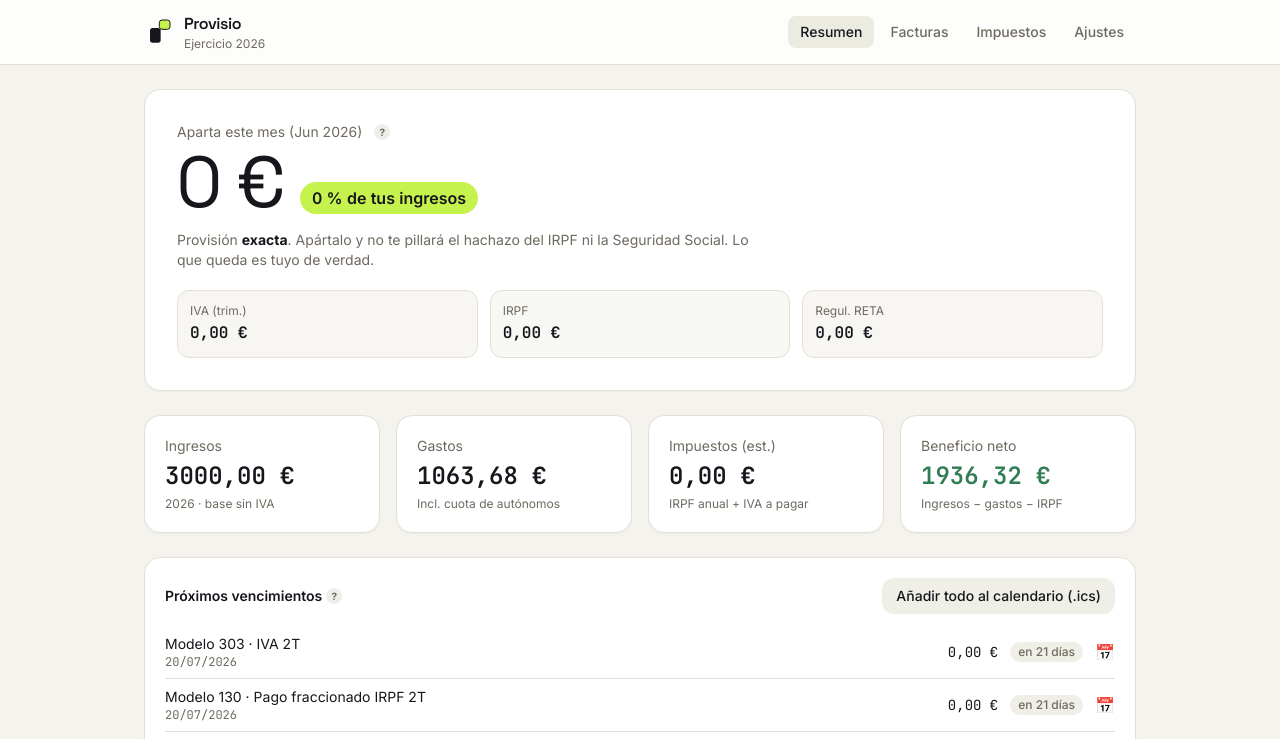
App smoke test (mounts without crashing) › navigates the simplified 4-hub nav
This screenshot has width=1280, height=739.
Expected: the text "Aparta este mes (Jun 2026) ?" is shown, [177,123,390,140]
# Facturas hub: Ingresos/Gastos segmented + create-invoice action.
Click the button "Facturas" at [920, 32], box [878,16,960,48]
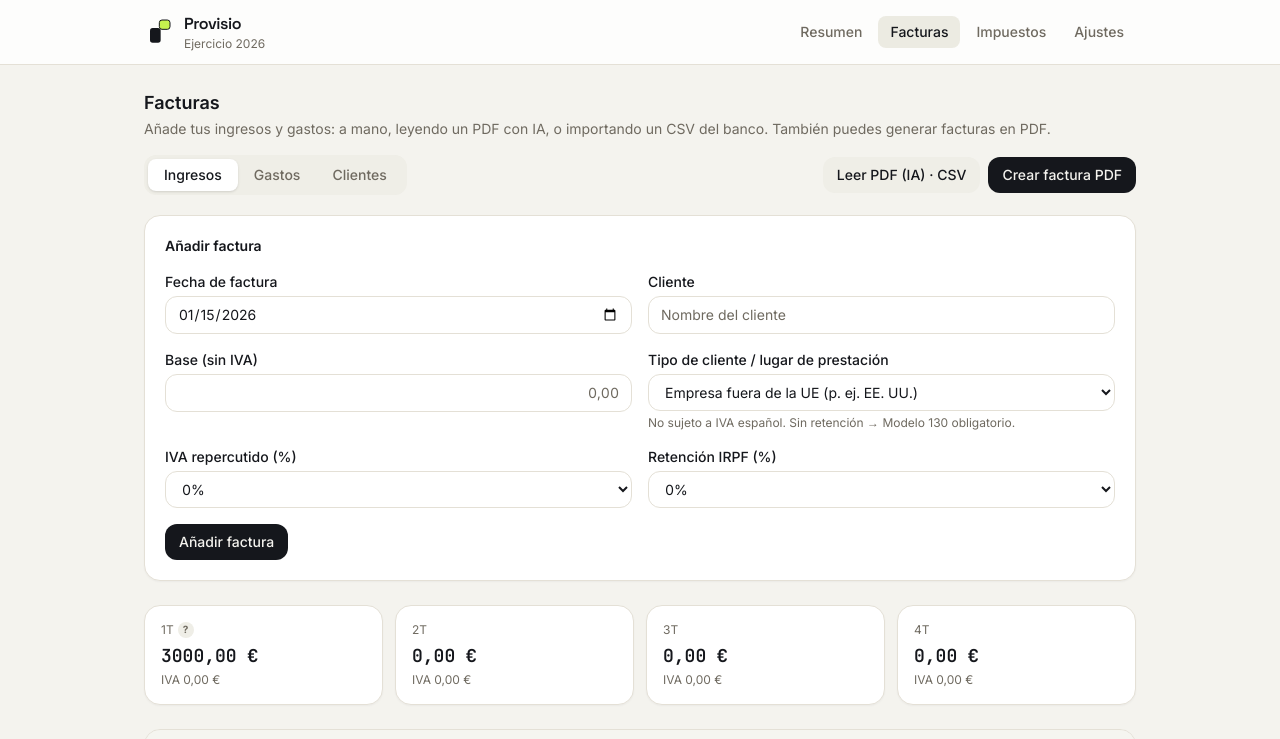
Result: the button "Crear factura PDF" is shown at [988,157,1136,193]
# Ajustes hub: año y perfil + datos.
Click the button "Ajustes" at [1099, 32], box [1062,16,1136,48]
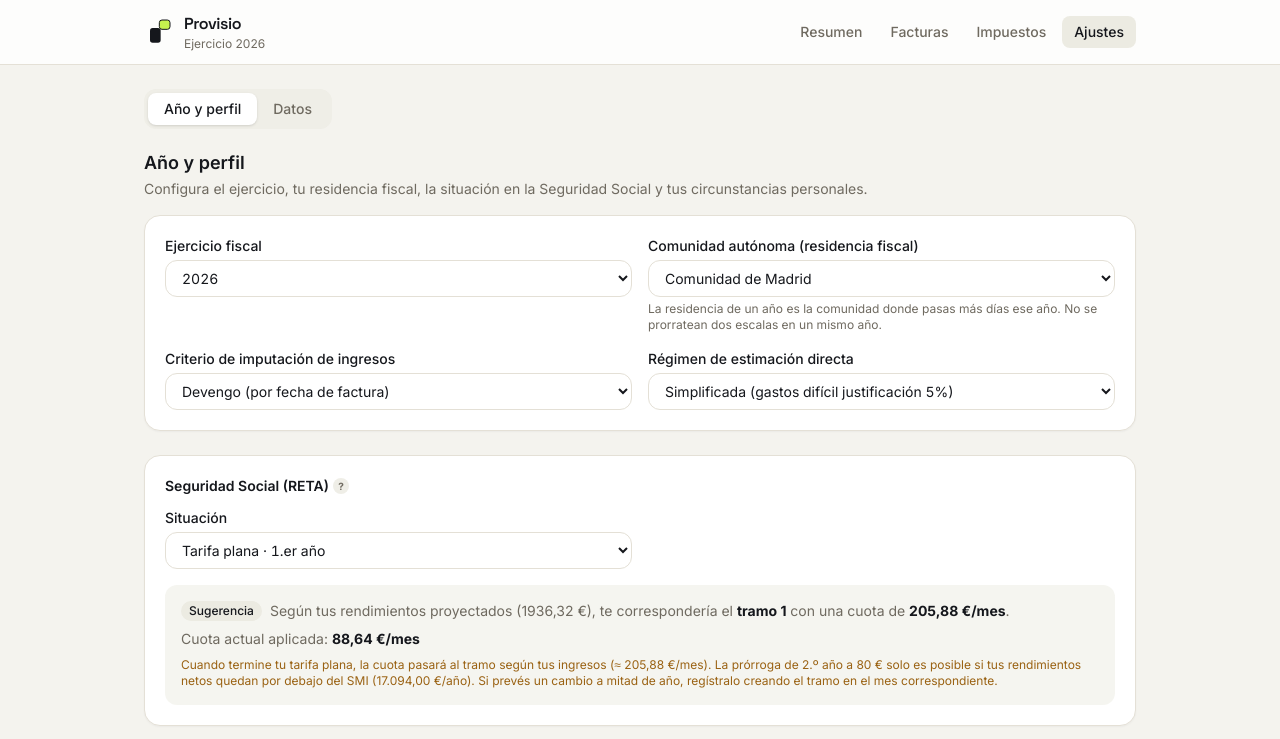
Result: the button "Año y perfil" is shown at [148,93,257,125]
